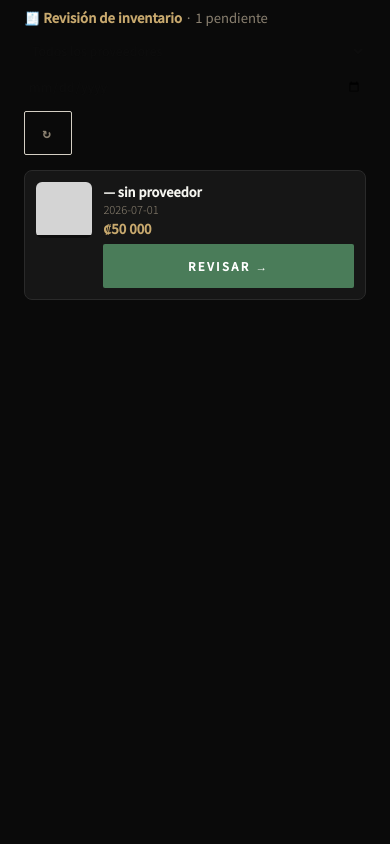
Test: InvRevision — la foto de la factura en el detalle (T3-A parte 1) › el detalle muestra el thumb de la factura (signedUrl del bucket documents)
Click the button "Revisar →" at (229,266), box [103,244,354,288]
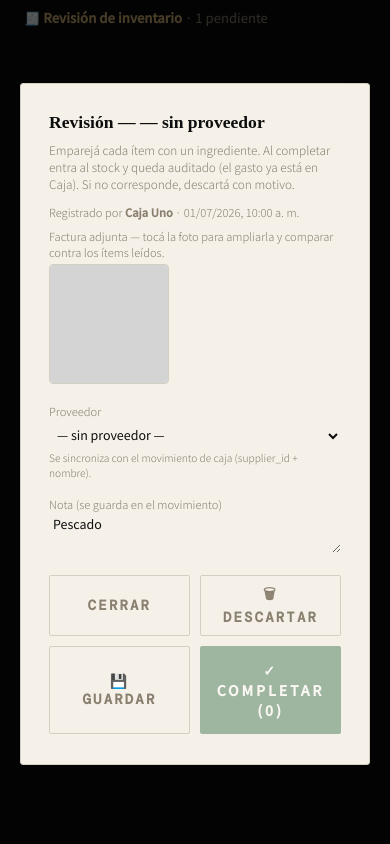
Now the text "Factura adjunta" is shown, box [49,228,333,260]
